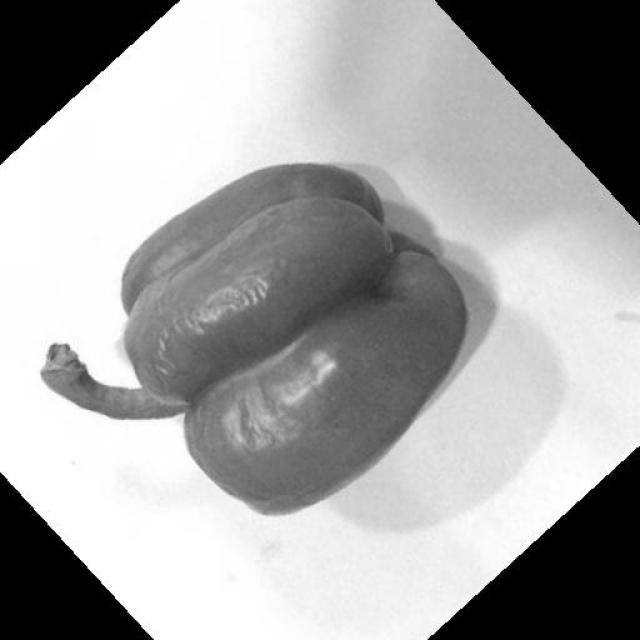Fresh_Capsicum: (96, 132, 462, 512)
